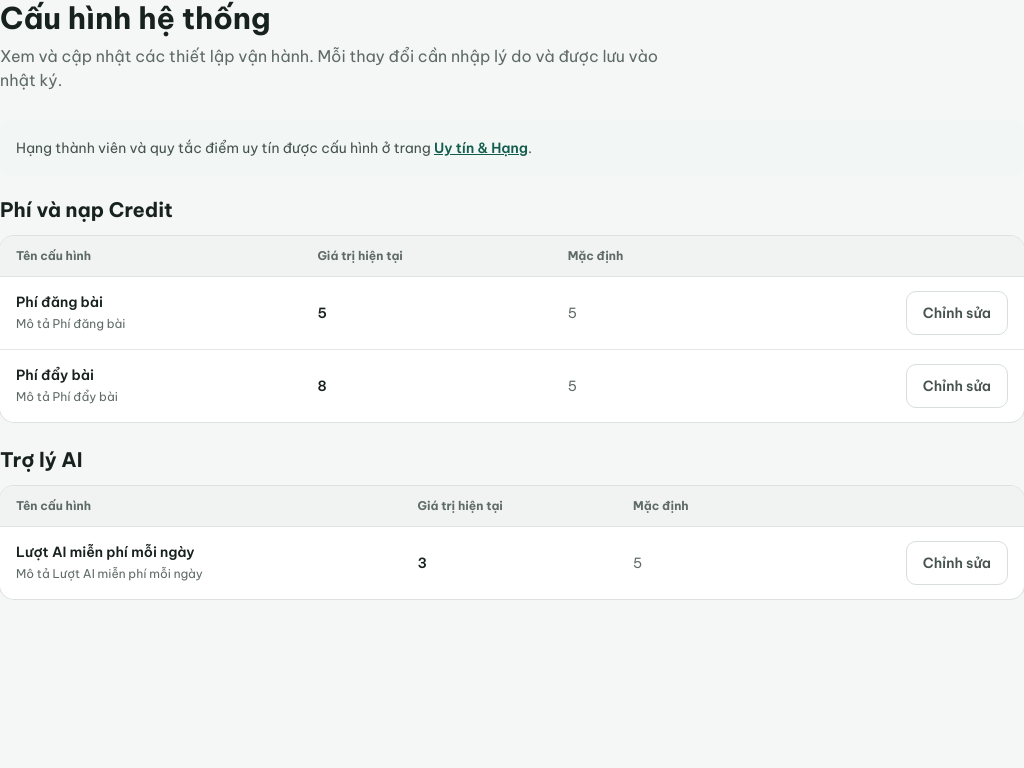
Test: AdminConfigs › giữ hộp thoại và hiện câu báo lỗi của Backend khi giá trị không hợp lệ
Click the button "Chỉnh sửa" in the row of "Mô tả Phí đăng bài" at (957, 313), box [906, 291, 1008, 335]
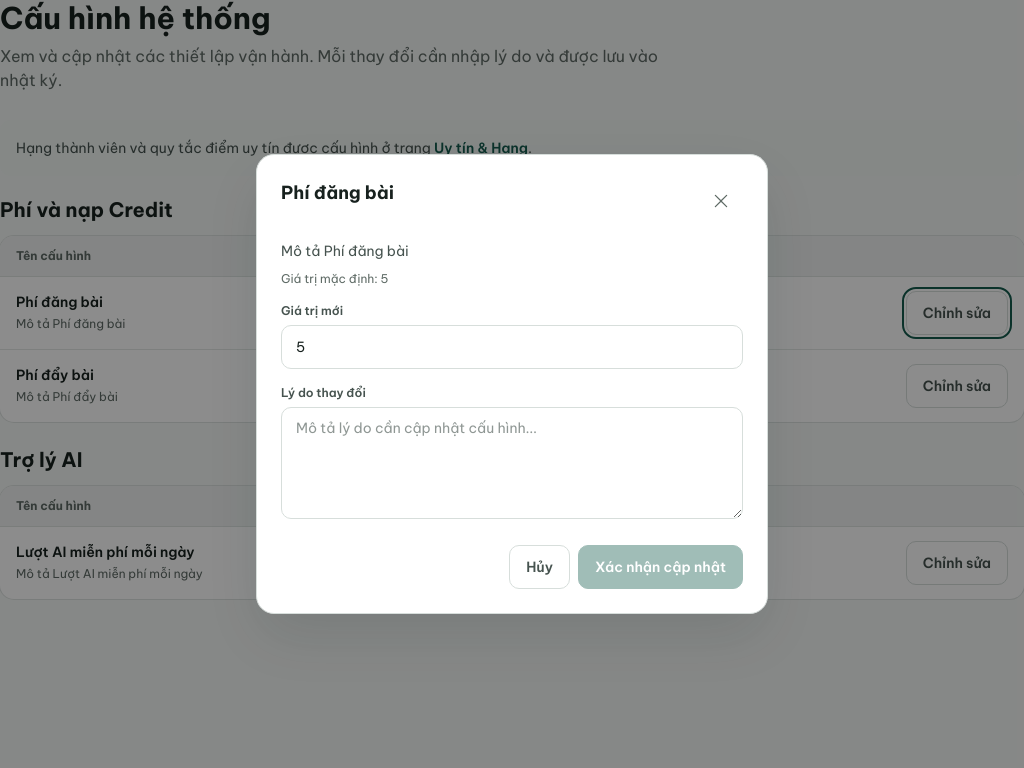
Replace the text in the field labelled "Giá trị mới" with "9999" at (512, 347), box [281, 325, 743, 369]
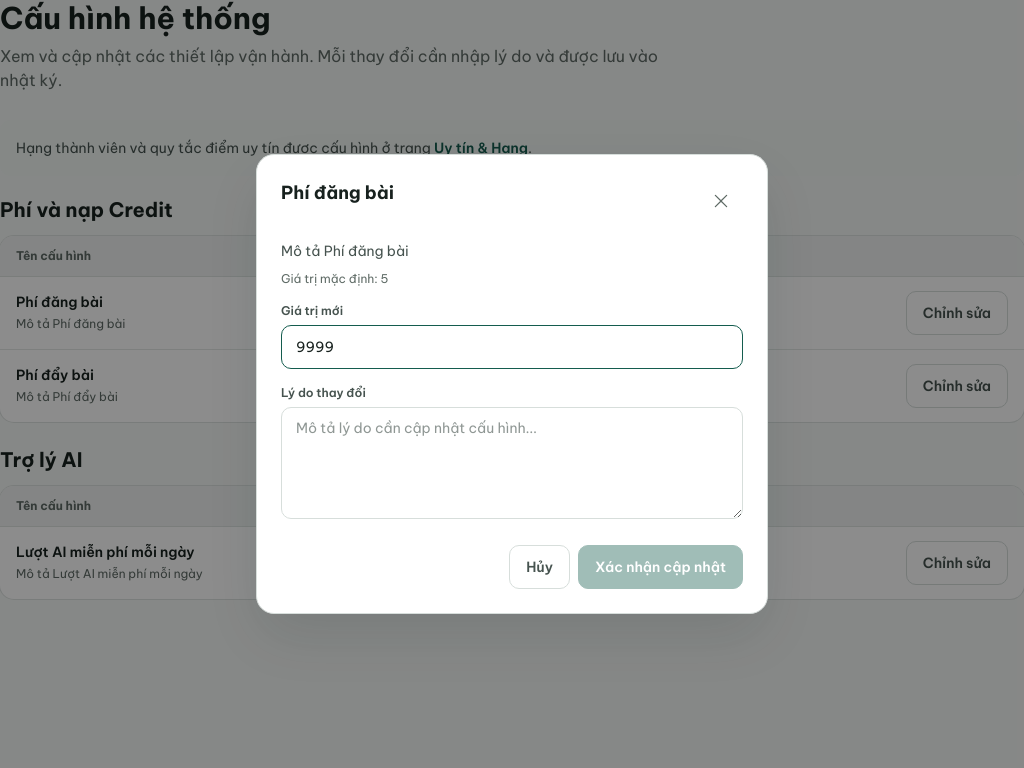
Type "Thử" into the text box labelled "Lý do thay đổi" at (512, 463), box [281, 407, 743, 519]
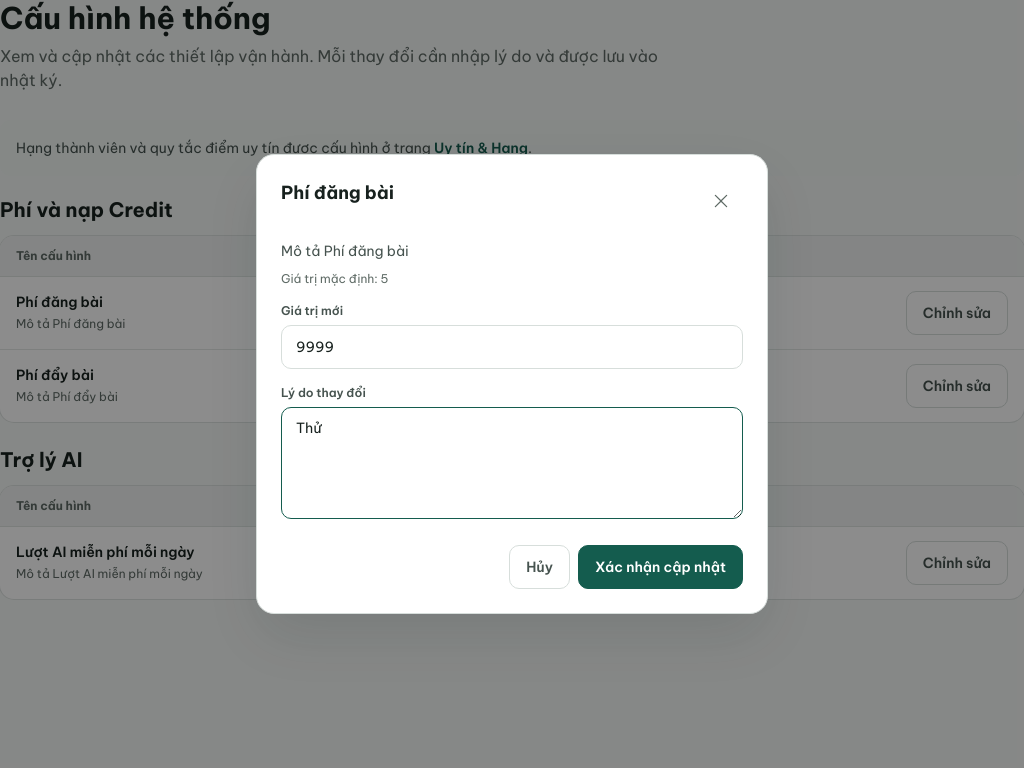
Click the button "Xác nhận cập nhật" at (660, 567), box [578, 545, 743, 589]
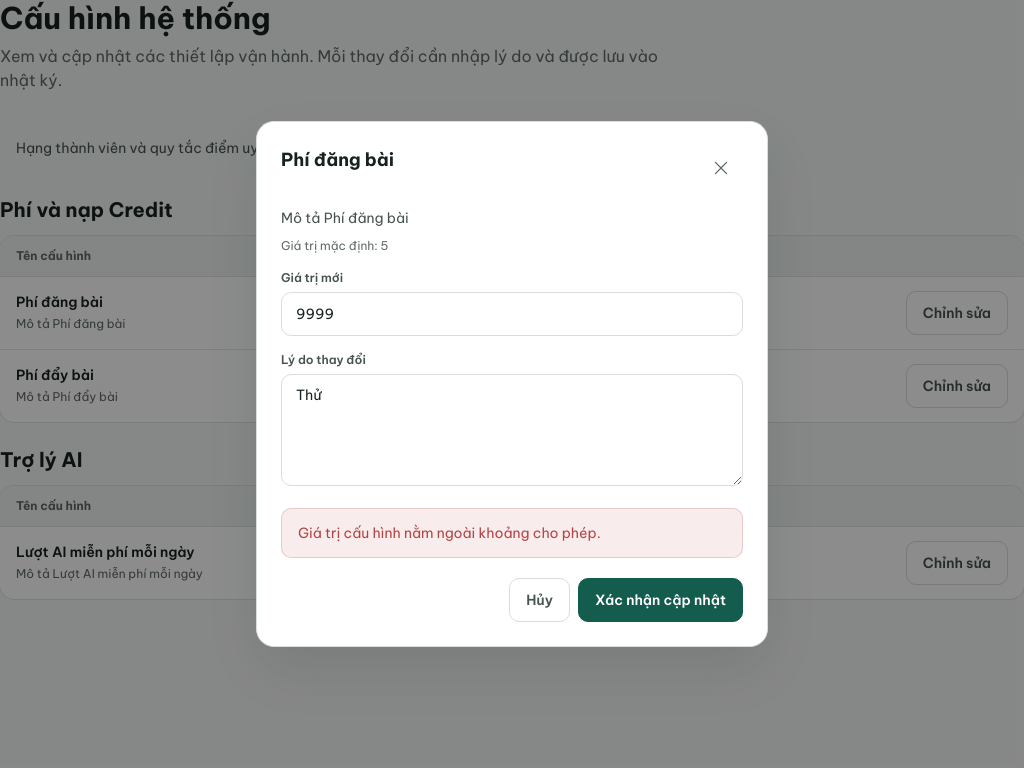
expect the message shows "nằm ngoài khoảng cho phép": met, box [298, 524, 601, 542]
